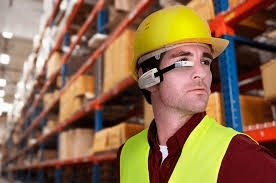helmet: (131, 5, 233, 59)
person with full safety: (118, 3, 256, 183)
safety vest: (123, 121, 243, 182)
